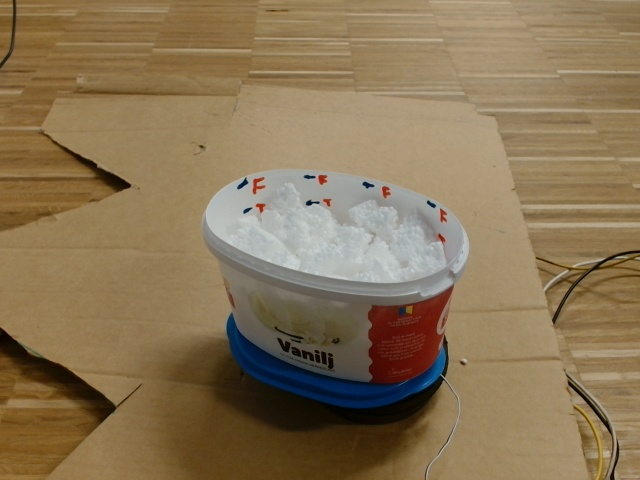Big_threequarter: (203, 166, 471, 304)
